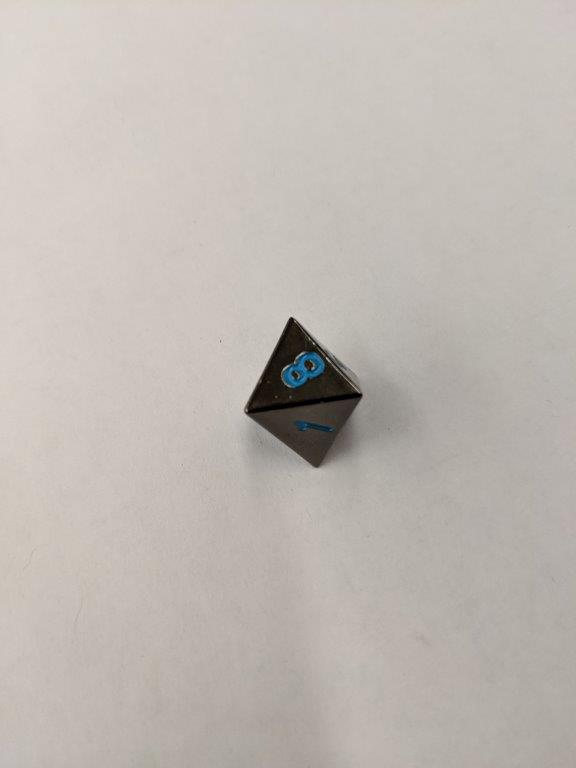d8-8: (242, 318, 362, 472)
